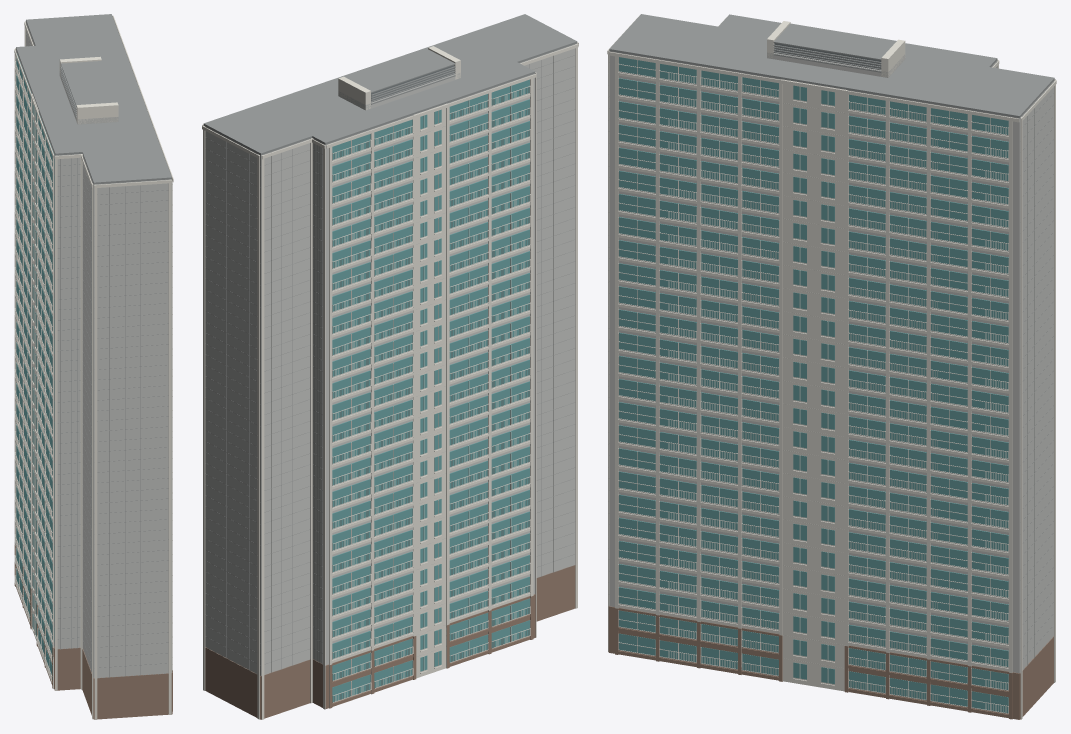
File: bespoke-jamsil-els-116.glb
The picture shows the model from 3 angles, left to right: view 1: azimuth 30°, elevation 25°; view 2: azimuth 150°, elevation 25°; view 3: azimuth 270°, elevation 25°; orthographic projection. The views are drawn at different scales.
Parts seen in each view (by area): view 1: Els116_editable_Els116_light_grey_solid_wall, Els116_editable_Els116_modest_grey_flat_roof_caps, Els116_editable_Els116_turquoise_balcony_glazing, Els116_white_exact_chunk_2, Els116_white_exact_chunk_1, Els116_white_exact_chunk_0, Els116_editable_Els116_muted_ground_wall, Els116_white_exact_chunk_5, Els116_white_exact_chunk_3; view 2: Els116_editable_Els116_light_grey_solid_wall, Els116_editable_Els116_turquoise_balcony_glazing, Els116_white_exact_chunk_0, Els116_editable_Els116_modest_grey_flat_roof_caps, Els116_white_exact_chunk_1, Els116_white_exact_chunk_2, Els116_editable_Els116_muted_ground_wall, Els116_white_exact_chunk_5; view 3: Els116_editable_Els116_turquoise_balcony_glazing, Els116_editable_Els116_light_grey_solid_wall, Els116_white_exact_chunk_2, Els116_white_exact_chunk_3, Els116_editable_Els116_modest_grey_flat_roof_caps, Els116_white_exact_chunk_4, Els116_white_exact_chunk_5, Els116_editable_Els116_muted_ground_wall, Els116_white_exact_chunk_0, Els116_editable_Els116_narrow_charcoal_service_strips.
Part boxes in pixels (x1,y1,x2,y2): Els116_editable_Els116_light_grey_solid_wall: (16,22,171,678); Els116_editable_Els116_modest_grey_flat_roof_caps: (16,14,171,678); Els116_editable_Els116_turquoise_balcony_glazing: (16,54,54,679); Els116_white_exact_chunk_2: (14,49,172,719); Els116_white_exact_chunk_1: (14,50,52,682); Els116_white_exact_chunk_0: (14,21,38,640); Els116_editable_Els116_muted_ground_wall: (14,544,172,719); Els116_white_exact_chunk_5: (59,15,173,182); Els116_white_exact_chunk_3: (147,110,172,672); Els116_editable_Els116_light_grey_solid_wall: (204,43,576,675); Els116_editable_Els116_turquoise_balcony_glazing: (332,79,529,701); Els116_white_exact_chunk_0: (202,103,447,719); Els116_editable_Els116_modest_grey_flat_roof_caps: (203,14,577,675); Els116_white_exact_chunk_1: (329,93,530,708); Els116_white_exact_chunk_2: (326,42,578,668); Els116_editable_Els116_muted_ground_wall: (205,565,575,719); Els116_white_exact_chunk_5: (202,46,460,125); Els116_editable_Els116_turquoise_balcony_glazing: (619,57,1008,713); Els116_editable_Els116_light_grey_solid_wall: (609,51,1054,673); Els116_white_exact_chunk_2: (607,15,997,691); Els116_white_exact_chunk_3: (615,52,885,693); Els116_editable_Els116_modest_grey_flat_roof_caps: (609,14,1054,669); Els116_white_exact_chunk_4: (848,94,1008,713); Els116_white_exact_chunk_5: (608,21,1019,712); Els116_editable_Els116_muted_ground_wall: (608,606,1053,719); Els116_white_exact_chunk_0: (992,60,1056,719); Els116_editable_Els116_narrow_charcoal_service_strips: (774,43,881,68).
Bounding box in the file's own units: 26.4 × 73.8 × 48.31.
